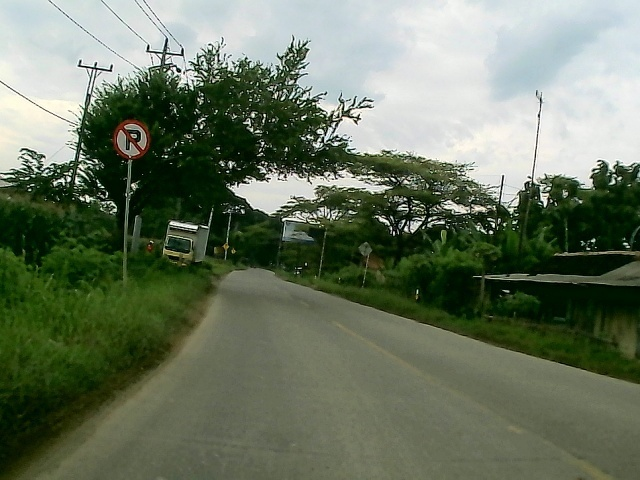Dilarang parkir: (112, 119, 151, 161)
